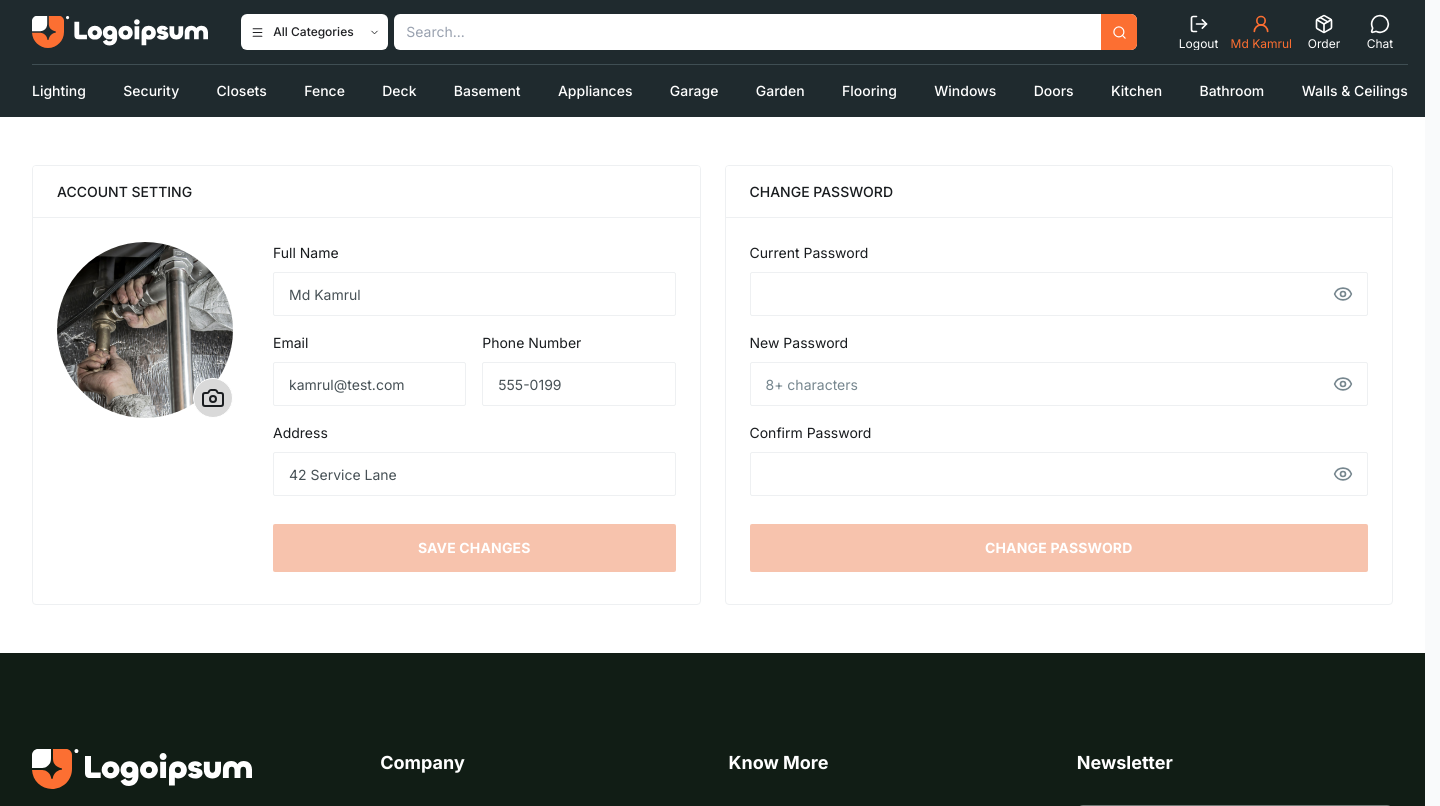
Test: AccountContent › enables Change Password after typing in a password field
Expected: the button "Change Password" is disabled, x1=750 y1=524 x2=1368 y2=572
Type "secret" into the password field labelled "Current Password" at (1059, 294), box x1=750 y1=272 x2=1368 y2=316
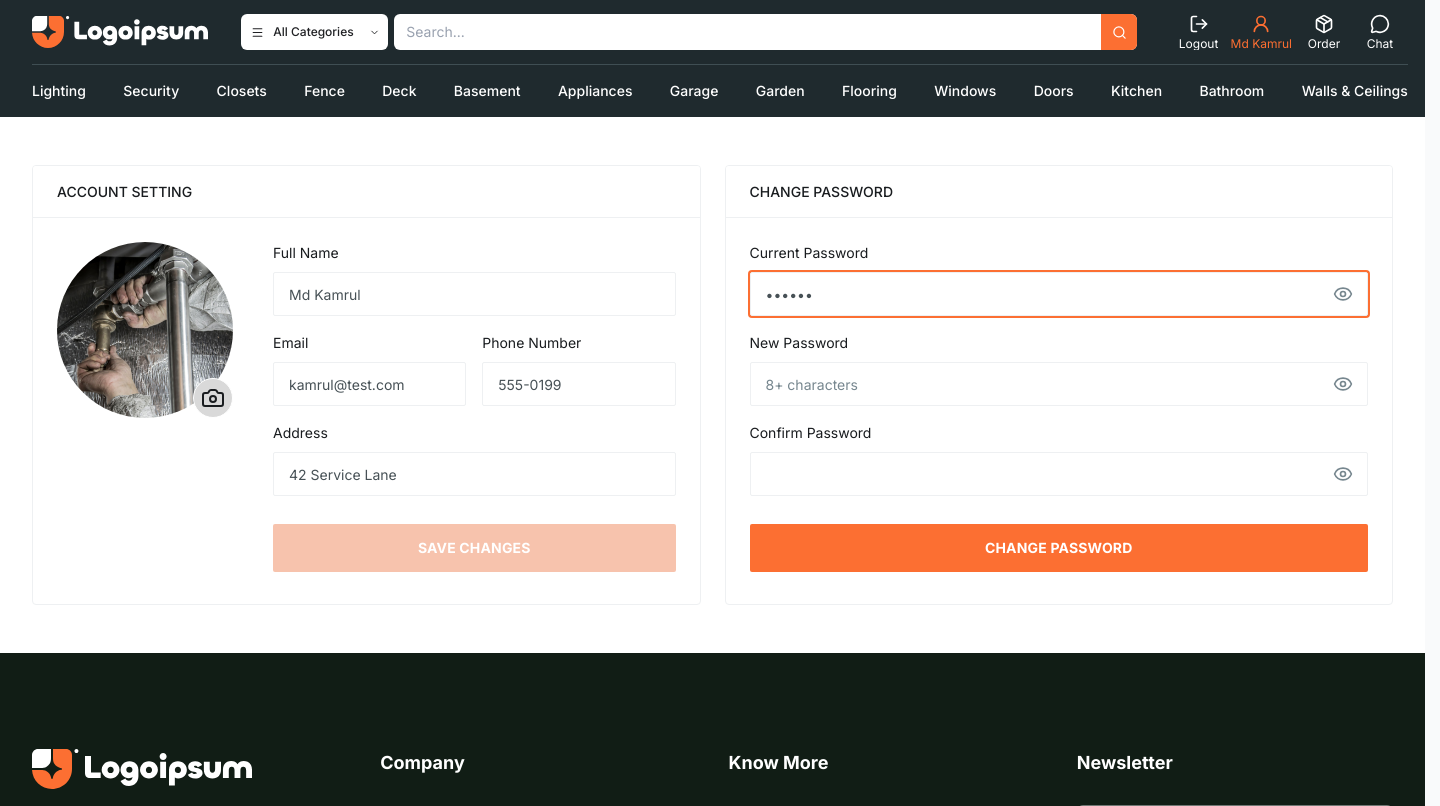
Expected: the button "Change Password" is enabled, x1=750 y1=524 x2=1368 y2=572
